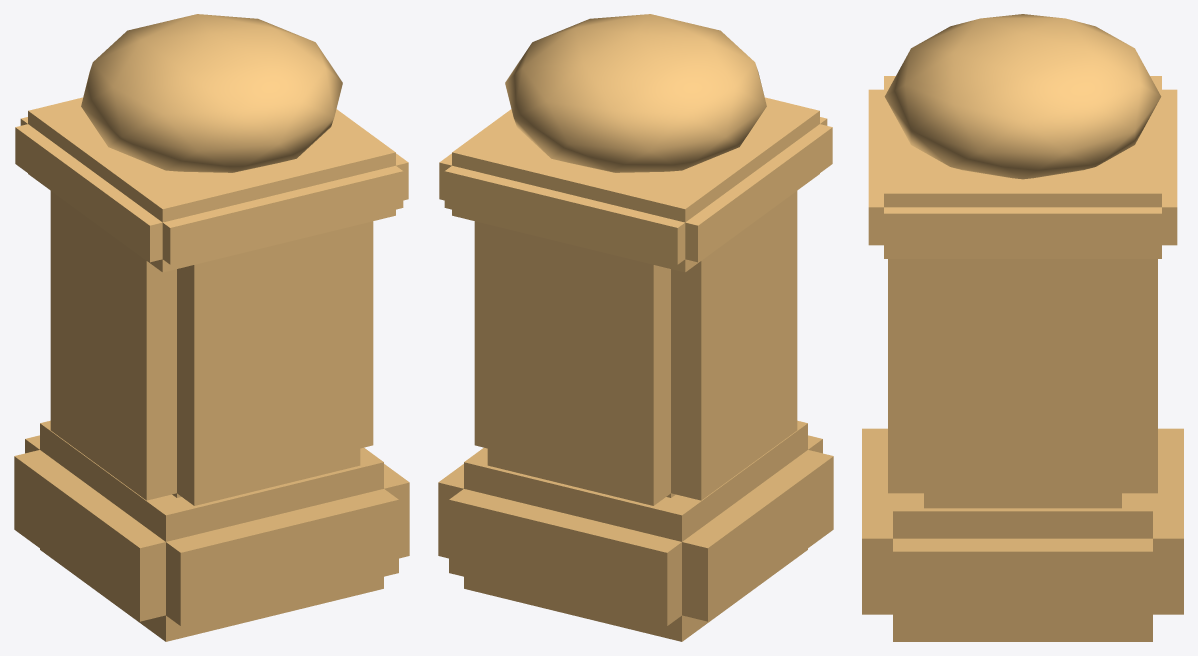
File: east-post.glb
3 renders of one model, left to right at view 1: azimuth 30°, elevation 25°; view 2: azimuth 150°, elevation 25°; view 3: azimuth 270°, elevation 25°, orthographic. The views are drawn at different scales.
Parts seen in each view (by area): view 1: east-post; view 2: east-post; view 3: east-post.
Boxes of the visible parts, x1,y1,x2,y2 form: east-post: (14,14,409,641); east-post: (438,14,833,641); east-post: (862,14,1183,641).
Bounding box in the file's own units: 0.58 × 1.1 × 0.58.
